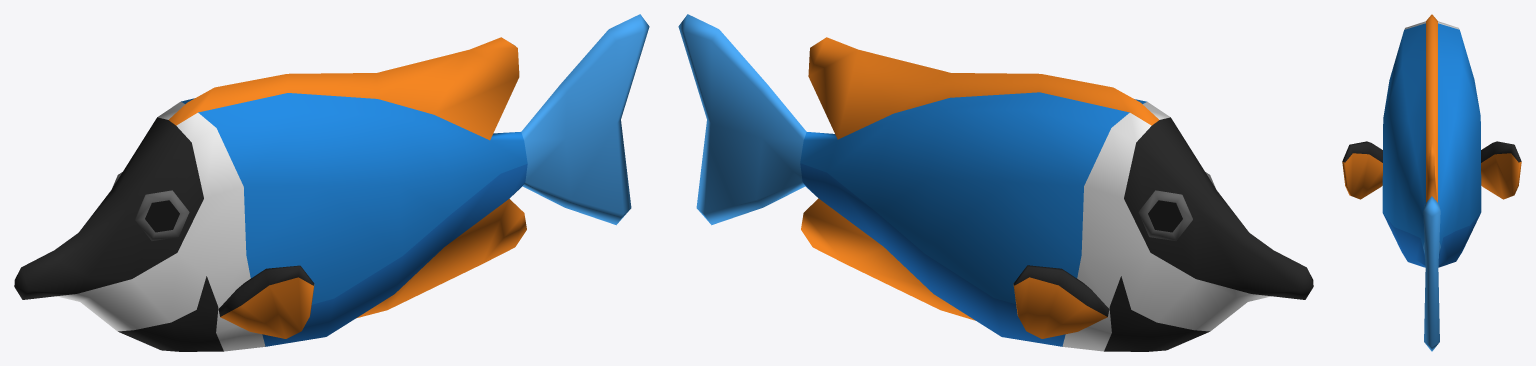
The model's file is Fish_033.glb.
3 renders of one model, left to right at view 1: azimuth 30°, elevation 25°; view 2: azimuth 150°, elevation 25°; view 3: azimuth 270°, elevation 25°, orthographic. The views are drawn at different scales.
Visible parts, largest first — view 1: Fish_033; view 2: Fish_033; view 3: Fish_033.
Part boxes in pixels (x1,y1,x2,y2): Fish_033: (14,14,649,351); Fish_033: (678,14,1313,351); Fish_033: (1342,14,1521,351).
Bounding box in the file's own units: 0.6468 × 0.2585 × 0.2045.
1 material, 1 textured.
